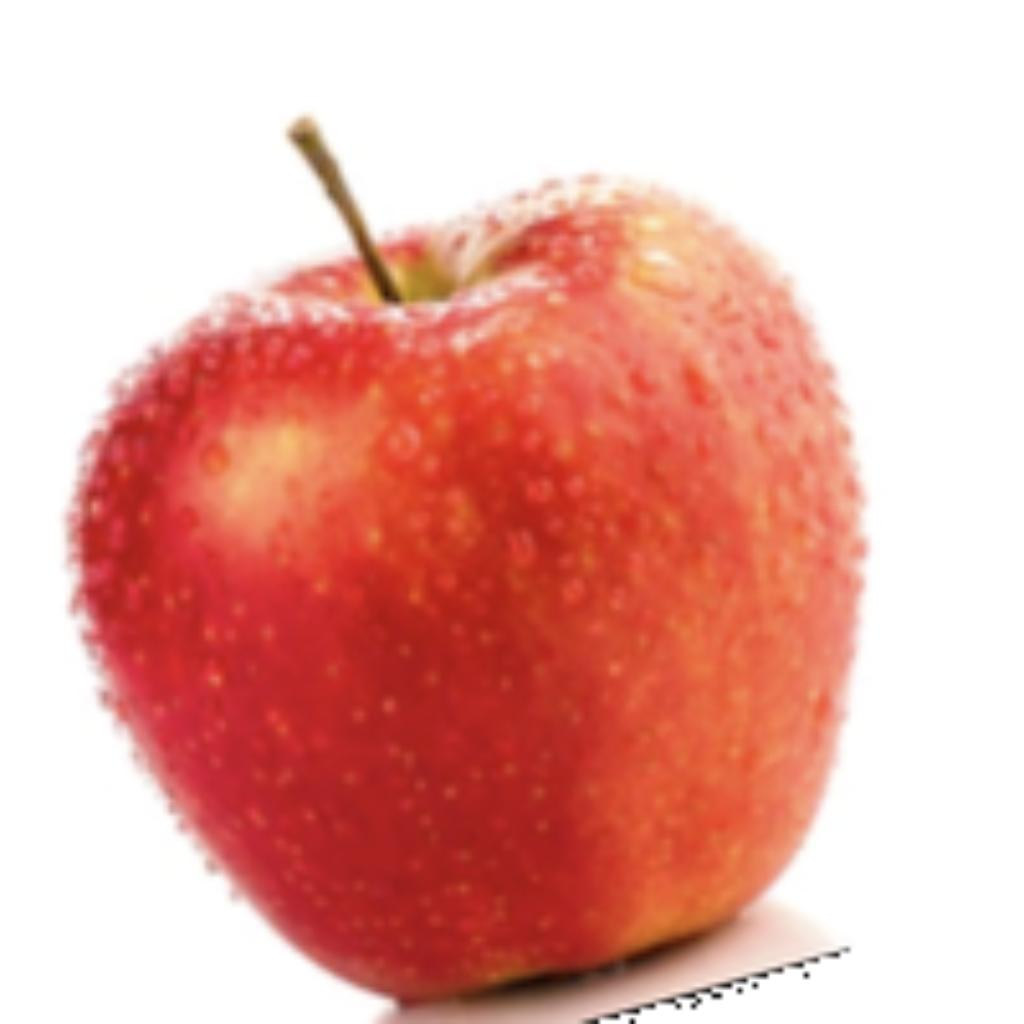apple: (56, 108, 876, 1019)
